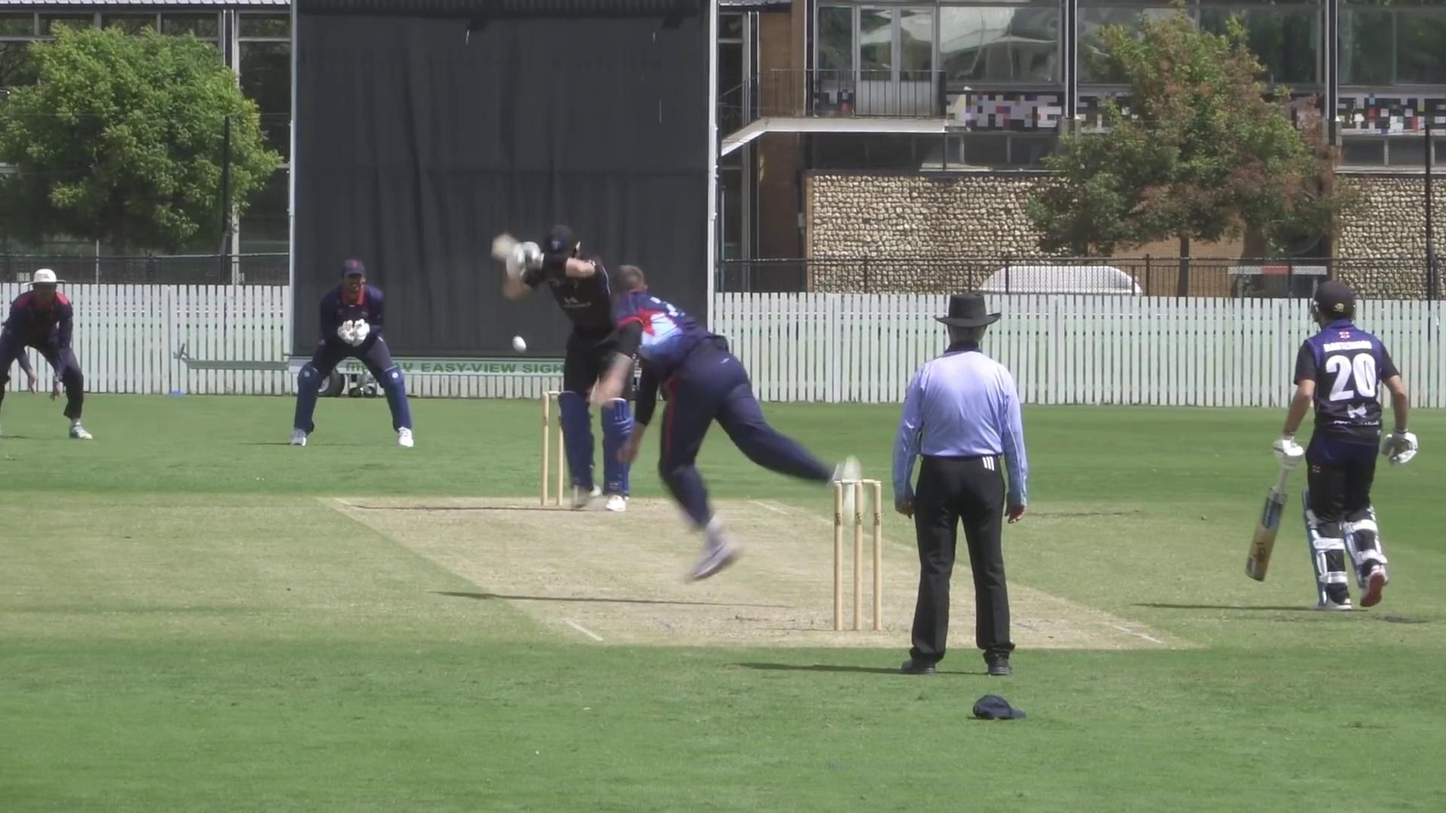ball: (509, 333, 531, 357)
